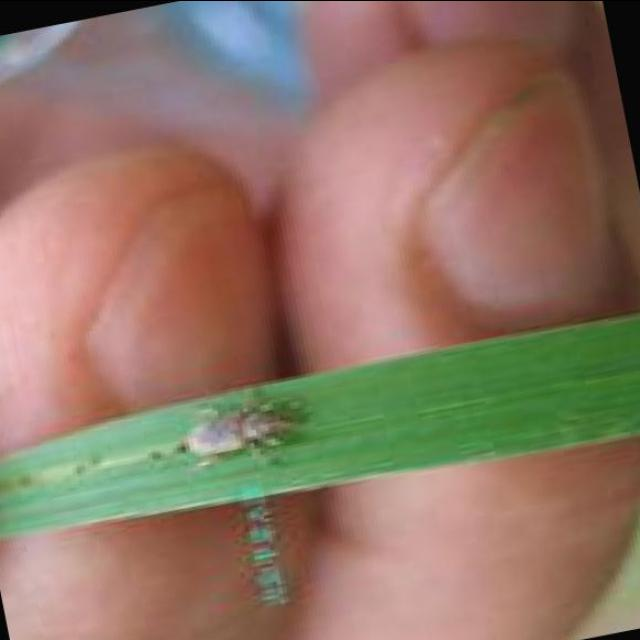ricebug: (178, 411, 290, 457)
